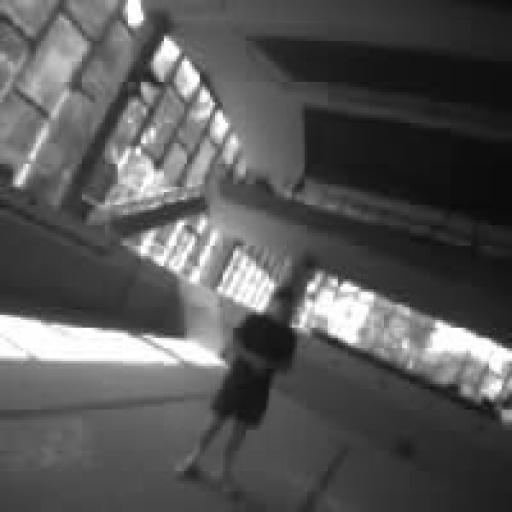human: (175, 287, 296, 494)
